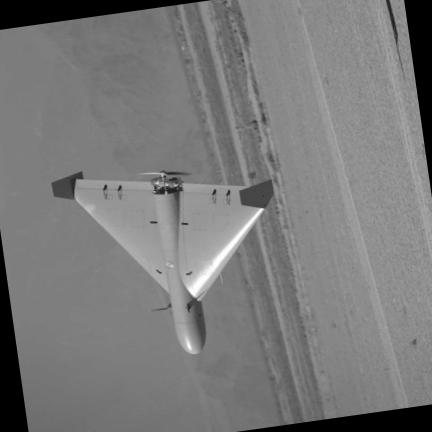Shahed: (52, 170, 273, 353)
